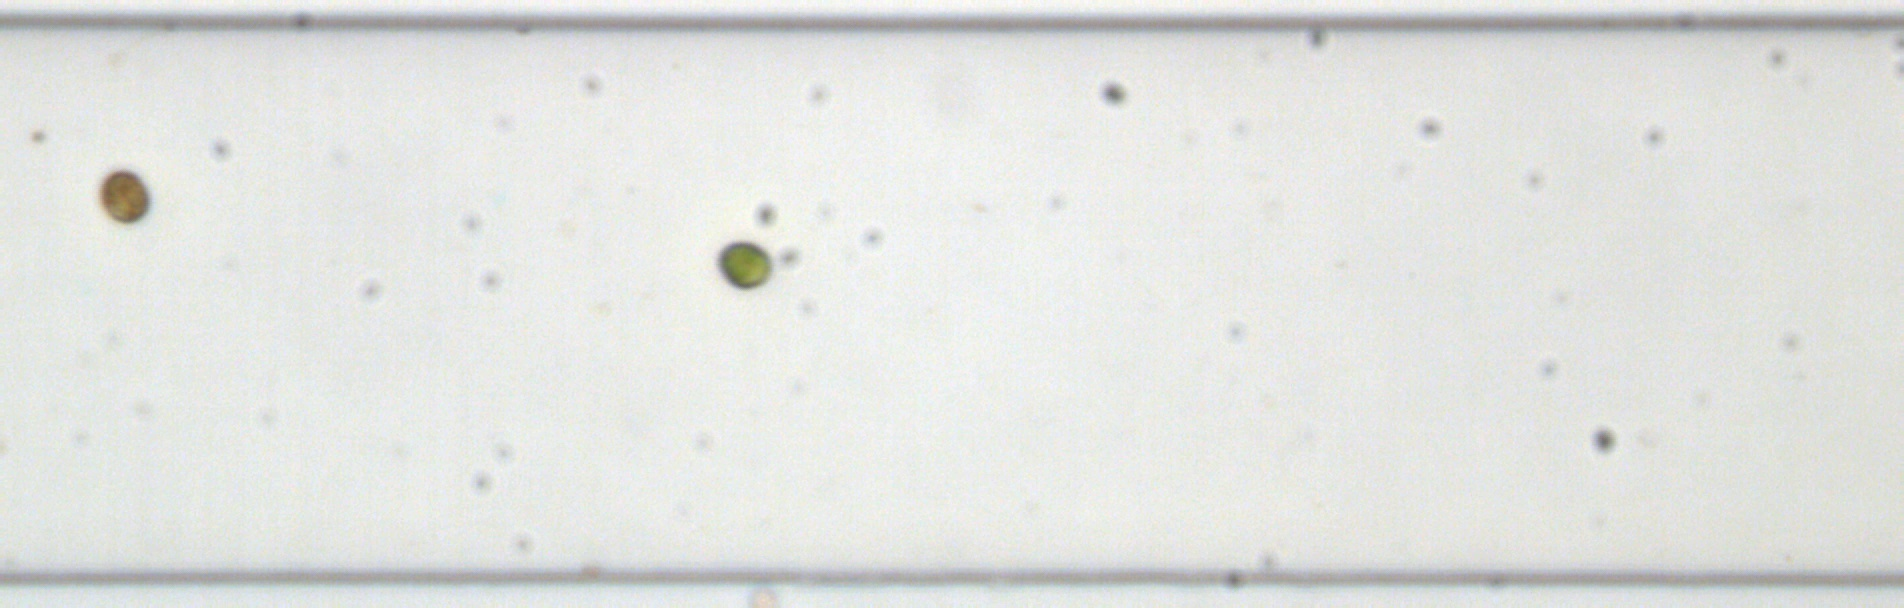Effrenium: (96, 166, 151, 225)
Platymonas: (715, 238, 773, 291)
